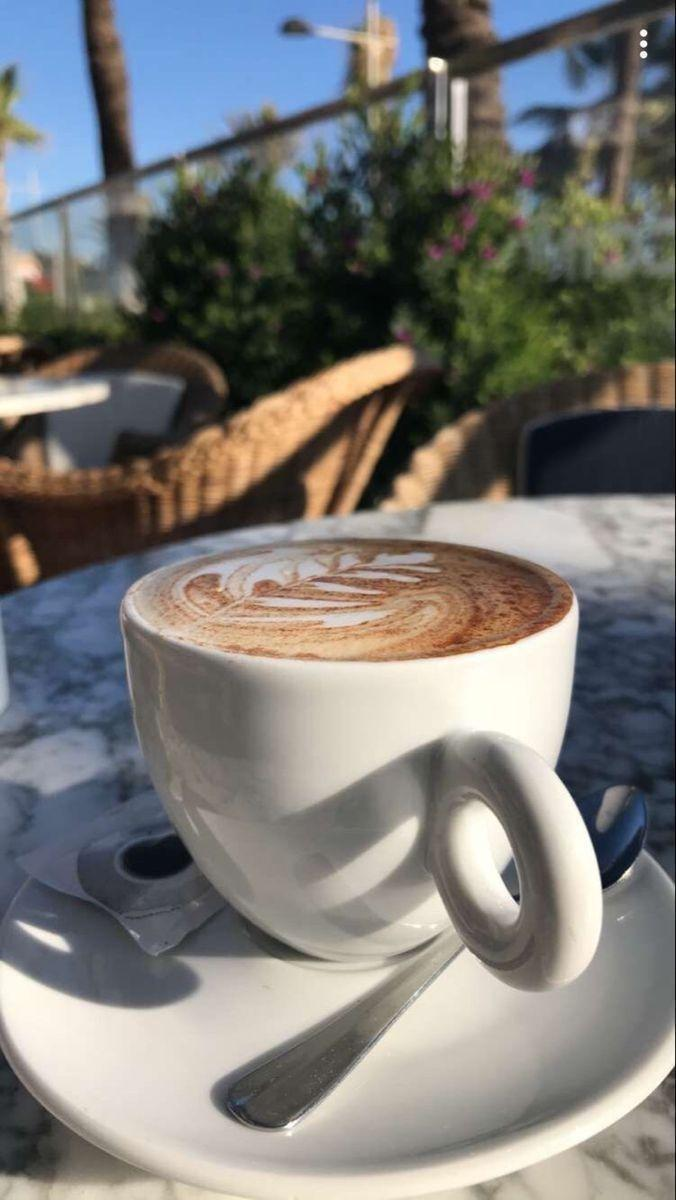cup-handle: (118, 531, 609, 1001)
